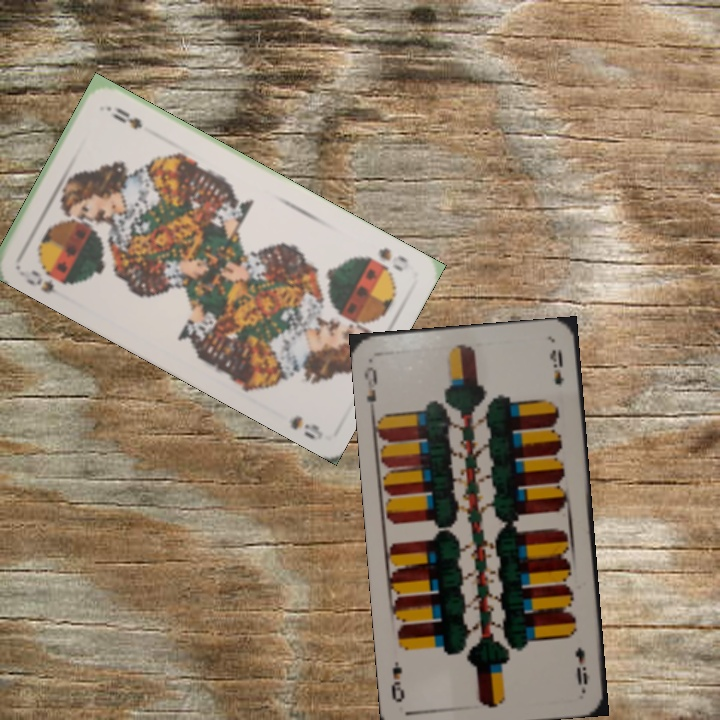E9: (360, 363, 380, 417), (571, 643, 591, 688)
SO: (21, 263, 74, 302), (374, 243, 411, 274)
